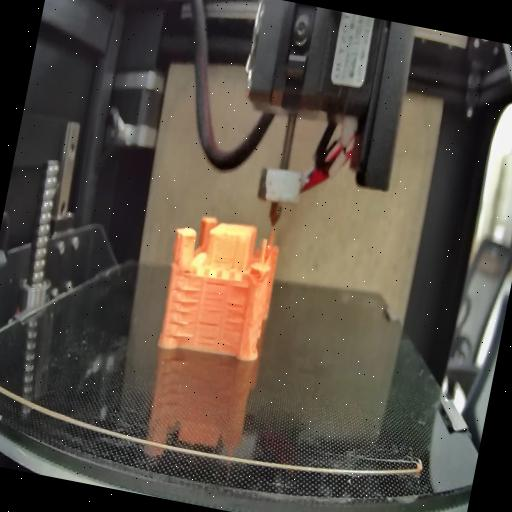cracks: (166, 285, 203, 345), (219, 302, 248, 348), (200, 278, 228, 316), (196, 318, 219, 346), (228, 279, 255, 298), (213, 255, 236, 270), (180, 265, 194, 279)
